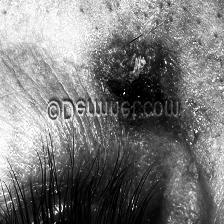Potentially Malignant Skin Tumors: (94, 44, 182, 96)
